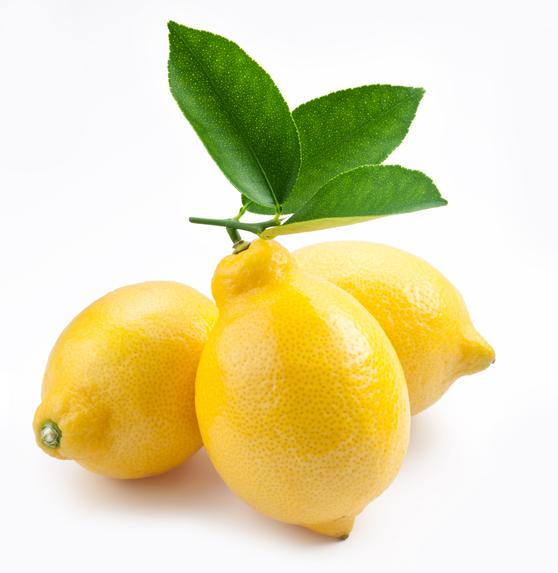lemon: (189, 226, 407, 547), (34, 276, 228, 477)
